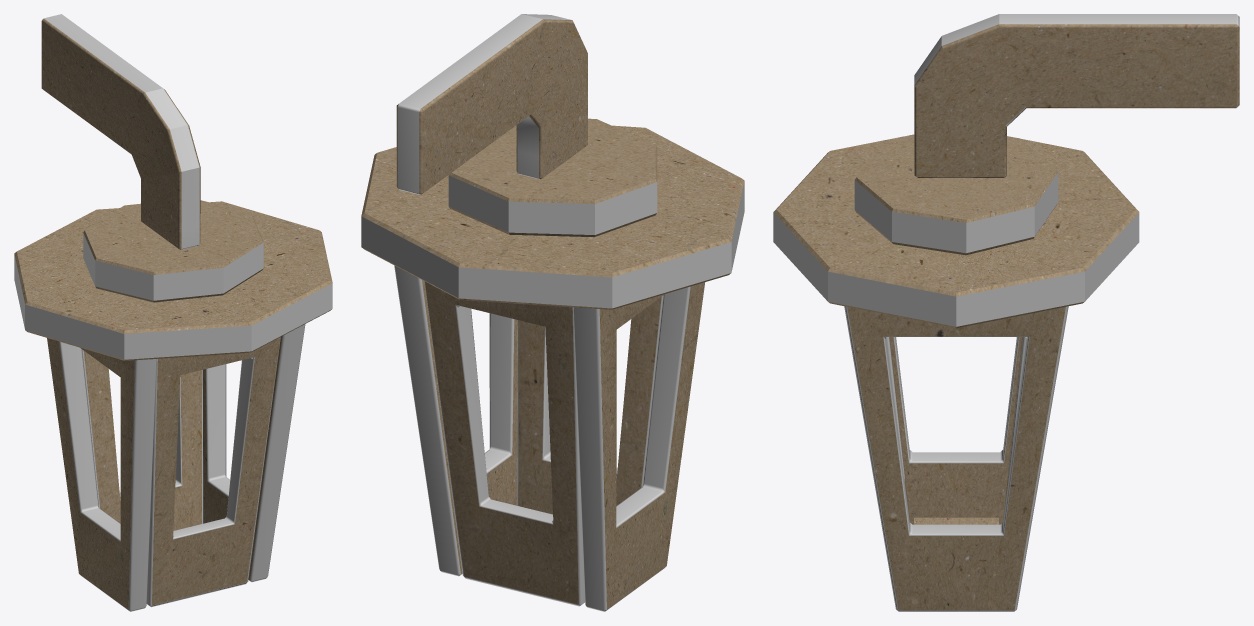
The model's file is SM_Lantern02.FBX.
The picture shows the model from 3 angles, left to right: view 1: azimuth 30°, elevation 25°; view 2: azimuth 150°, elevation 25°; view 3: azimuth 270°, elevation 25°; orthographic projection. The views are drawn at different scales.
Parts seen in each view (by area): view 1: SM_Lantern02; view 2: SM_Lantern02; view 3: SM_Lantern02.
Part boxes in pixels (<box>): SM_Lantern02: <box>14,14,332,611</box>; SM_Lantern02: <box>361,14,744,611</box>; SM_Lantern02: <box>773,14,1239,611</box>.
Size of the model in its own units: 1.33 by 2.03 by 1.54.
